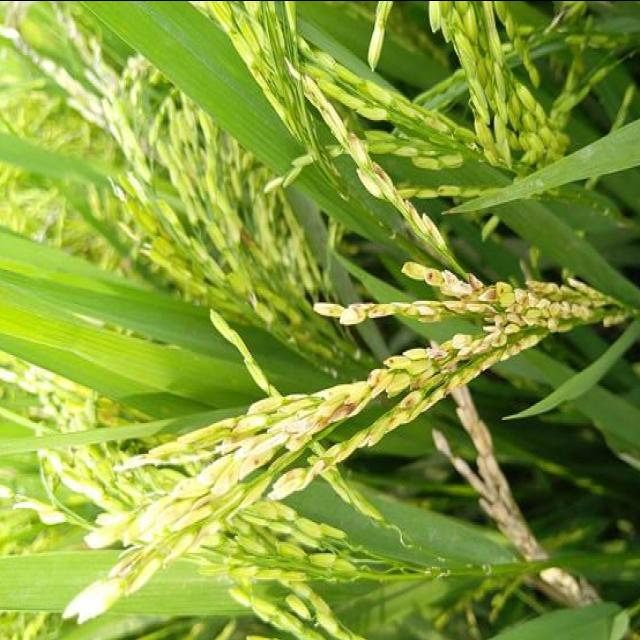Panicle Blight: (314, 300, 455, 329), (433, 351, 496, 397), (310, 388, 359, 434), (359, 148, 401, 198), (405, 267, 474, 297), (431, 335, 472, 382), (400, 365, 438, 407), (460, 275, 500, 311), (503, 288, 543, 320), (504, 334, 543, 356), (548, 300, 578, 328), (471, 326, 507, 349), (342, 122, 362, 151), (403, 198, 419, 215)
